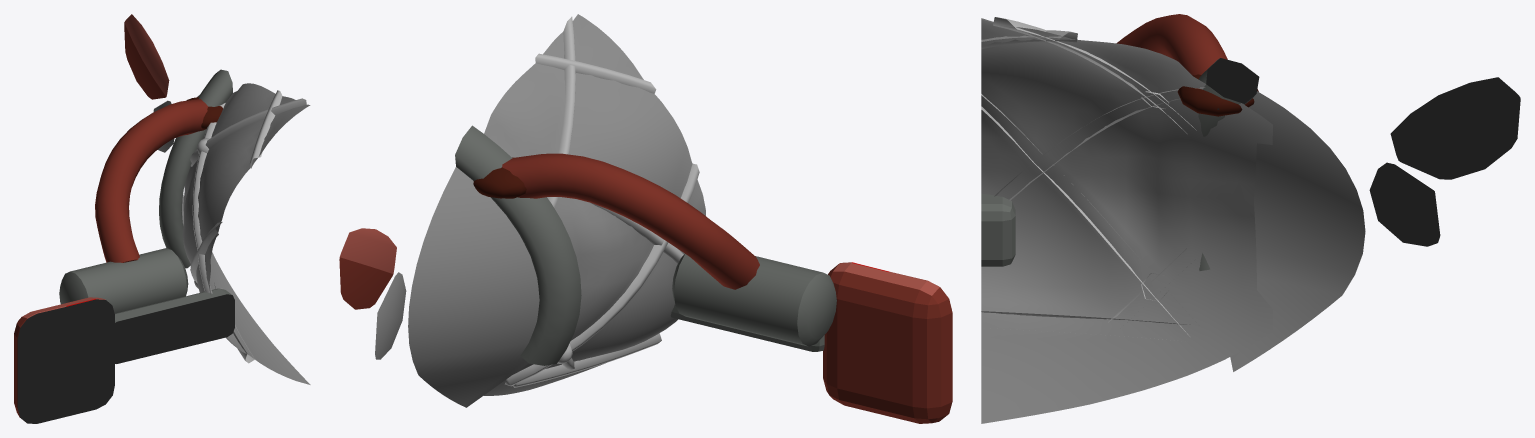
Rendered from zeppelin_47.glb.
3 views of the same model, side by side, from view 1: azimuth 30°, elevation 25°; view 2: azimuth 150°, elevation 25°; view 3: azimuth 270°, elevation 25° (orthographic). The views are drawn at different scales.
Visible parts, largest first — view 1: gun_mount.001, envelope.001, gun_hose.001, gun_strut.001, gun_cap.001, cowl_rim.001, net_ropes.001, duct.001, gun_hose_collar.001; view 2: envelope.001, cowl.001, gun_mount.001, gun_hose.001, gun_cap.001, cowl_rim.001, net_ropes.001, duct.001, duct_boot_l.001, net_load.001, gun_hose_collar.001, gun_strut.001; view 3: envelope.001, cowl.001, duct.001, duct_boot_l.001, gun_hose.001, net_ropes.001, gun_strut.001, cowl_rim.001, gun_hose_collar.001.
Part boxes in pixels (x1,y1,x2,y2): gun_mount.001: (14, 297, 114, 423); envelope.001: (182, 83, 310, 384); gun_hose.001: (95, 99, 208, 262); gun_strut.001: (109, 288, 234, 363); gun_cap.001: (59, 248, 188, 313); cowl_rim.001: (159, 69, 232, 268); net_ropes.001: (188, 90, 306, 293); duct.001: (124, 14, 169, 99); gun_hose_collar.001: (186, 97, 222, 129); envelope.001: (484, 14, 705, 395); cowl.001: (408, 167, 539, 407); gun_mount.001: (823, 262, 952, 423); gun_hose.001: (502, 153, 759, 289); gun_cap.001: (672, 254, 836, 346); cowl_rim.001: (455, 125, 581, 365); net_ropes.001: (505, 16, 699, 386); duct.001: (339, 228, 396, 309); duct_boot_l.001: (375, 272, 406, 359); net_load.001: (513, 333, 661, 387); gun_hose_collar.001: (473, 157, 526, 198); gun_strut.001: (670, 304, 824, 351); envelope.001: (981, 18, 1272, 423); cowl.001: (1230, 91, 1365, 371); duct.001: (1390, 77, 1520, 179); duct_boot_l.001: (1369, 162, 1440, 246); gun_hose.001: (1116, 14, 1227, 75); net_ropes.001: (981, 17, 1204, 336); gun_strut.001: (981, 193, 1015, 266); cowl_rim.001: (1198, 58, 1259, 270); gun_hose_collar.001: (1177, 74, 1258, 116).
Size of the model in its own units: 22.8 by 20.95 by 25.16.
